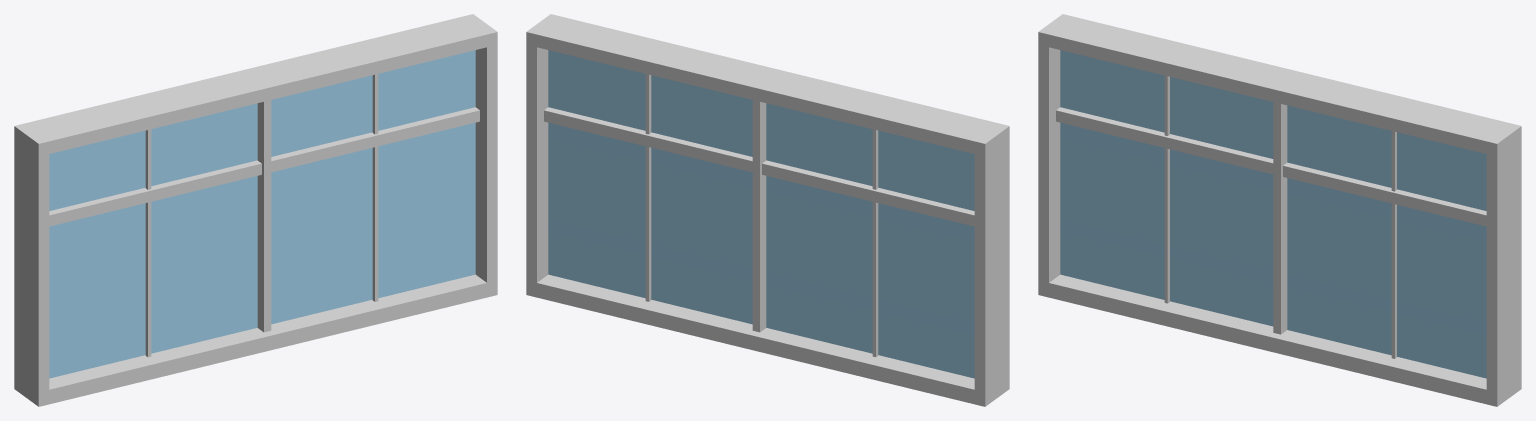
File: window_006.fbx
3 renders of one model, left to right at view 1: azimuth 30°, elevation 25°; view 2: azimuth 150°, elevation 25°; view 3: azimuth 330°, elevation 25°, orthographic.
Visible parts, largest first — view 1: window_006; view 2: window_006; view 3: window_006.
Part boxes in pixels (x1=…): window_006: x1=14, y1=14, x2=497, y2=406; window_006: x1=526, y1=14, x2=1009, y2=406; window_006: x1=1038, y1=14, x2=1521, y2=406.
Size of the model in its own units: 305 by 28.28 by 167.
